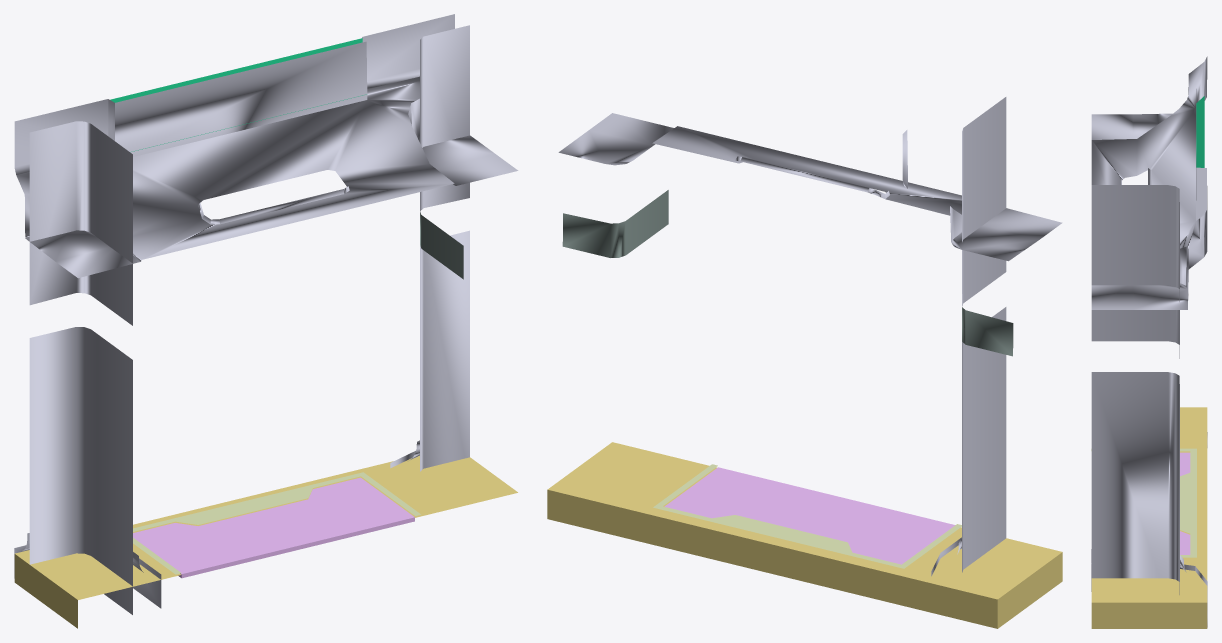
File: roomsm_wall_door_04x01x04_a_lod2.glb
The picture shows the model from 3 angles, left to right: view 1: azimuth 30°, elevation 25°; view 2: azimuth 150°, elevation 25°; view 3: azimuth 270°, elevation 25°; orthographic projection. The views are drawn at different scales.
Bounding box in the file's own units: 4 × 4 × 1.01.
